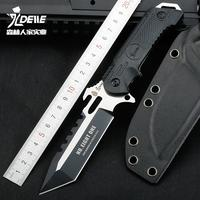knife: (35, 3, 175, 197)
